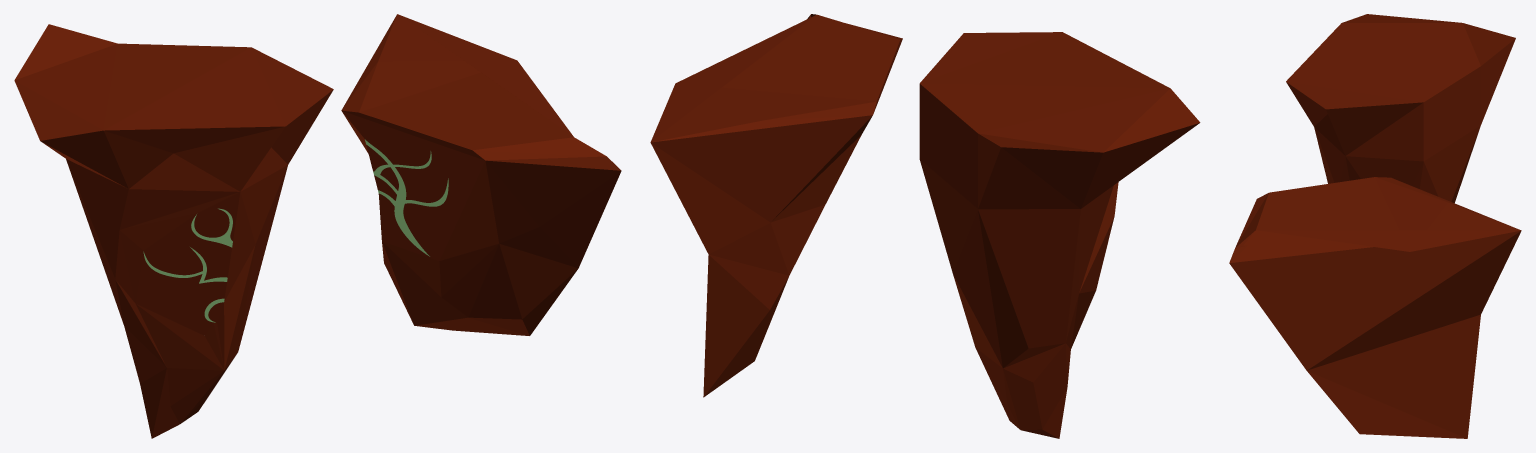
The model's file is PuzzleA.fbx.
3 renders of one model, left to right at view 1: azimuth 30°, elevation 25°; view 2: azimuth 150°, elevation 25°; view 3: azimuth 270°, elevation 25°, orthographic. The views are drawn at different scales.
Parts seen in each view (by area): view 1: Mesh2, Mesh1; view 2: Mesh2, Mesh1; view 3: Mesh1, Mesh2.
Boxes of the visible parts, <box> form: Mesh2: <box>14,24,333,438</box>; Mesh1: <box>341,14,621,335</box>; Mesh2: <box>919,32,1200,438</box>; Mesh1: <box>650,14,902,397</box>; Mesh1: <box>1229,177,1521,438</box>; Mesh2: <box>1286,14,1515,203</box>.
Size of the model in its own units: 1823 by 1244 by 1189.
